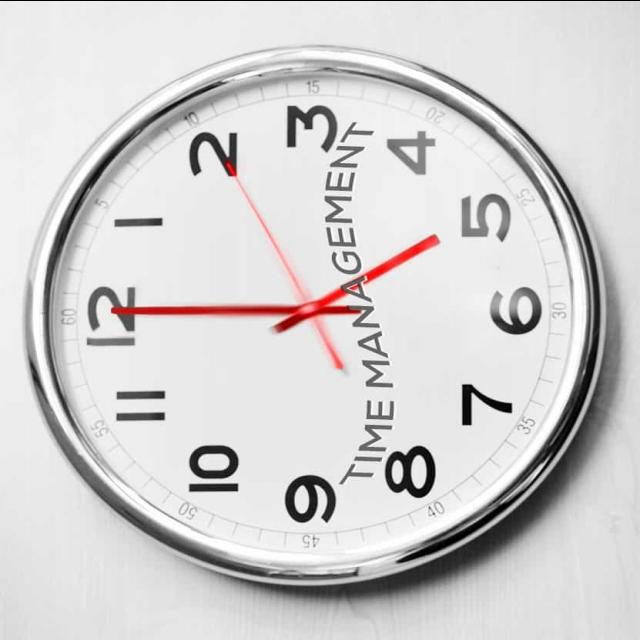clock: (48, 0, 640, 622)
